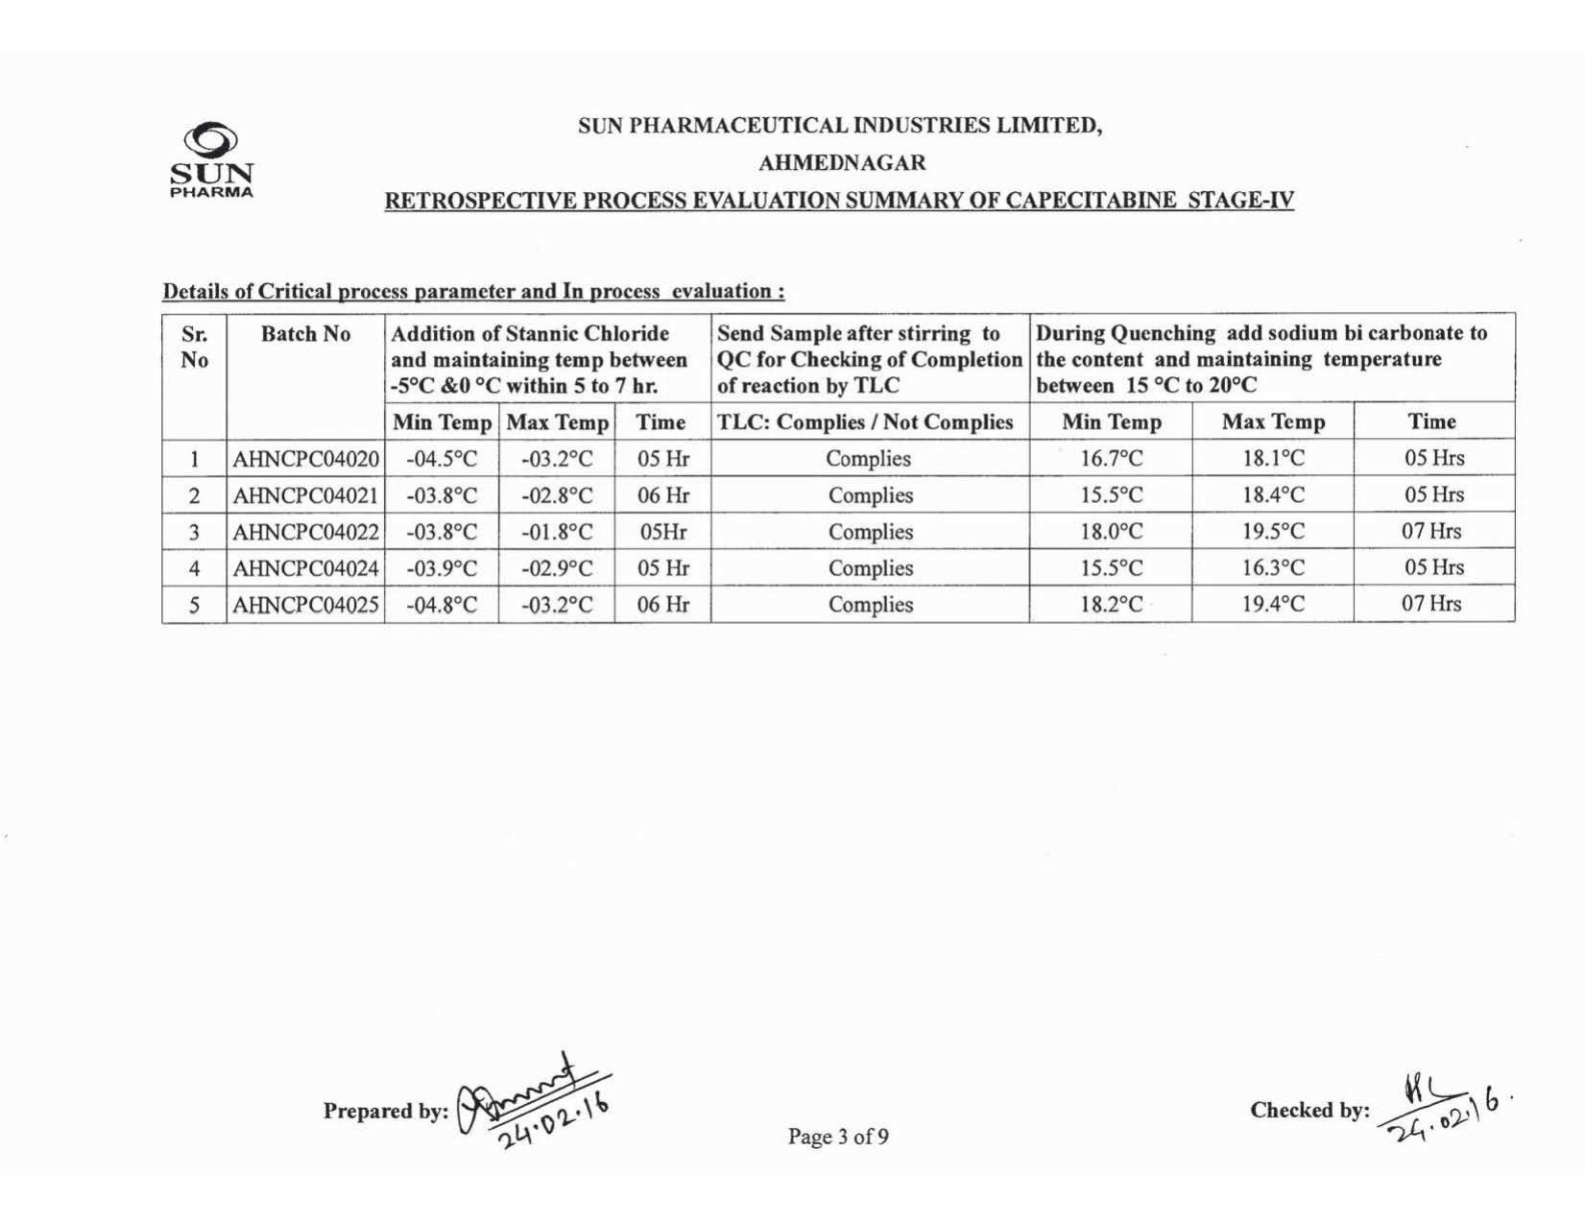merged_cells: (159, 310, 1516, 624)
